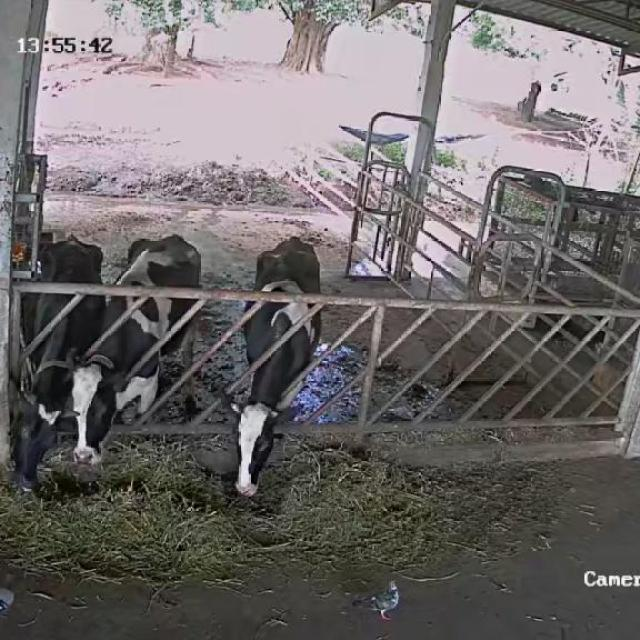feeding: (62, 235, 211, 462), (8, 240, 104, 498), (234, 236, 324, 496)
